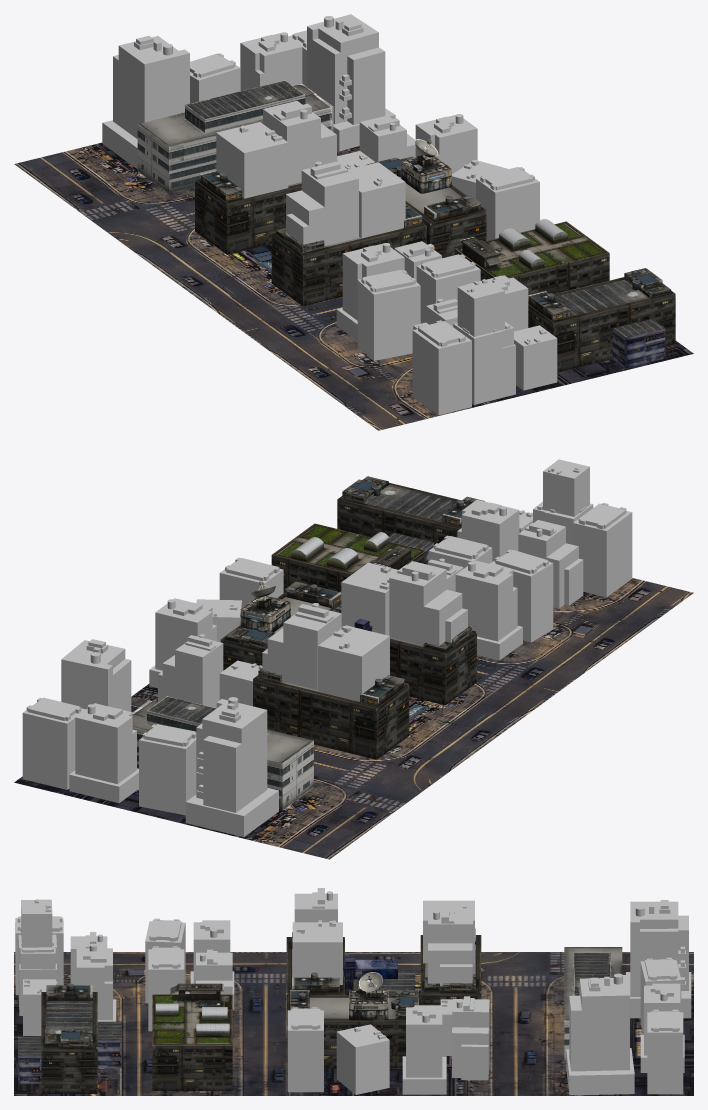
The model's file is CP_Slums_Pack_100x200_01.fbx.
The picture shows the model from 3 angles, top to bottom: view 1: azimuth 30°, elevation 25°; view 2: azimuth 150°, elevation 25°; view 3: azimuth 270°, elevation 25°; orthographic projection. The views are drawn at different scales.
Visible parts, largest first — view 1: CP_Slums_Pack_100x200_01; view 2: CP_Slums_Pack_100x200_01; view 3: CP_Slums_Pack_100x200_01.
Boxes of the visible parts, x1,y1,x2,y2 form: CP_Slums_Pack_100x200_01: [14, 14, 693, 430]; CP_Slums_Pack_100x200_01: [14, 459, 693, 859]; CP_Slums_Pack_100x200_01: [14, 888, 693, 1095].
Size of the model in its own units: 10000 by 3555 by 20000.
